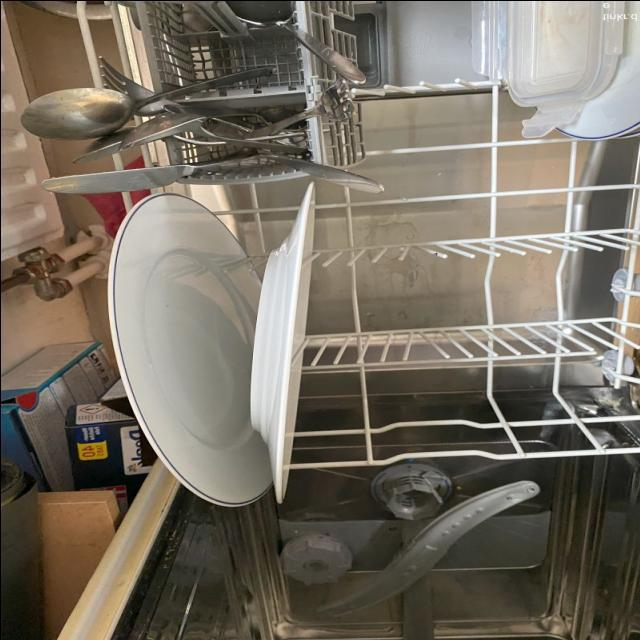clutery_bin: (103, 0, 345, 181)
empty_slot: (371, 129, 626, 446)
